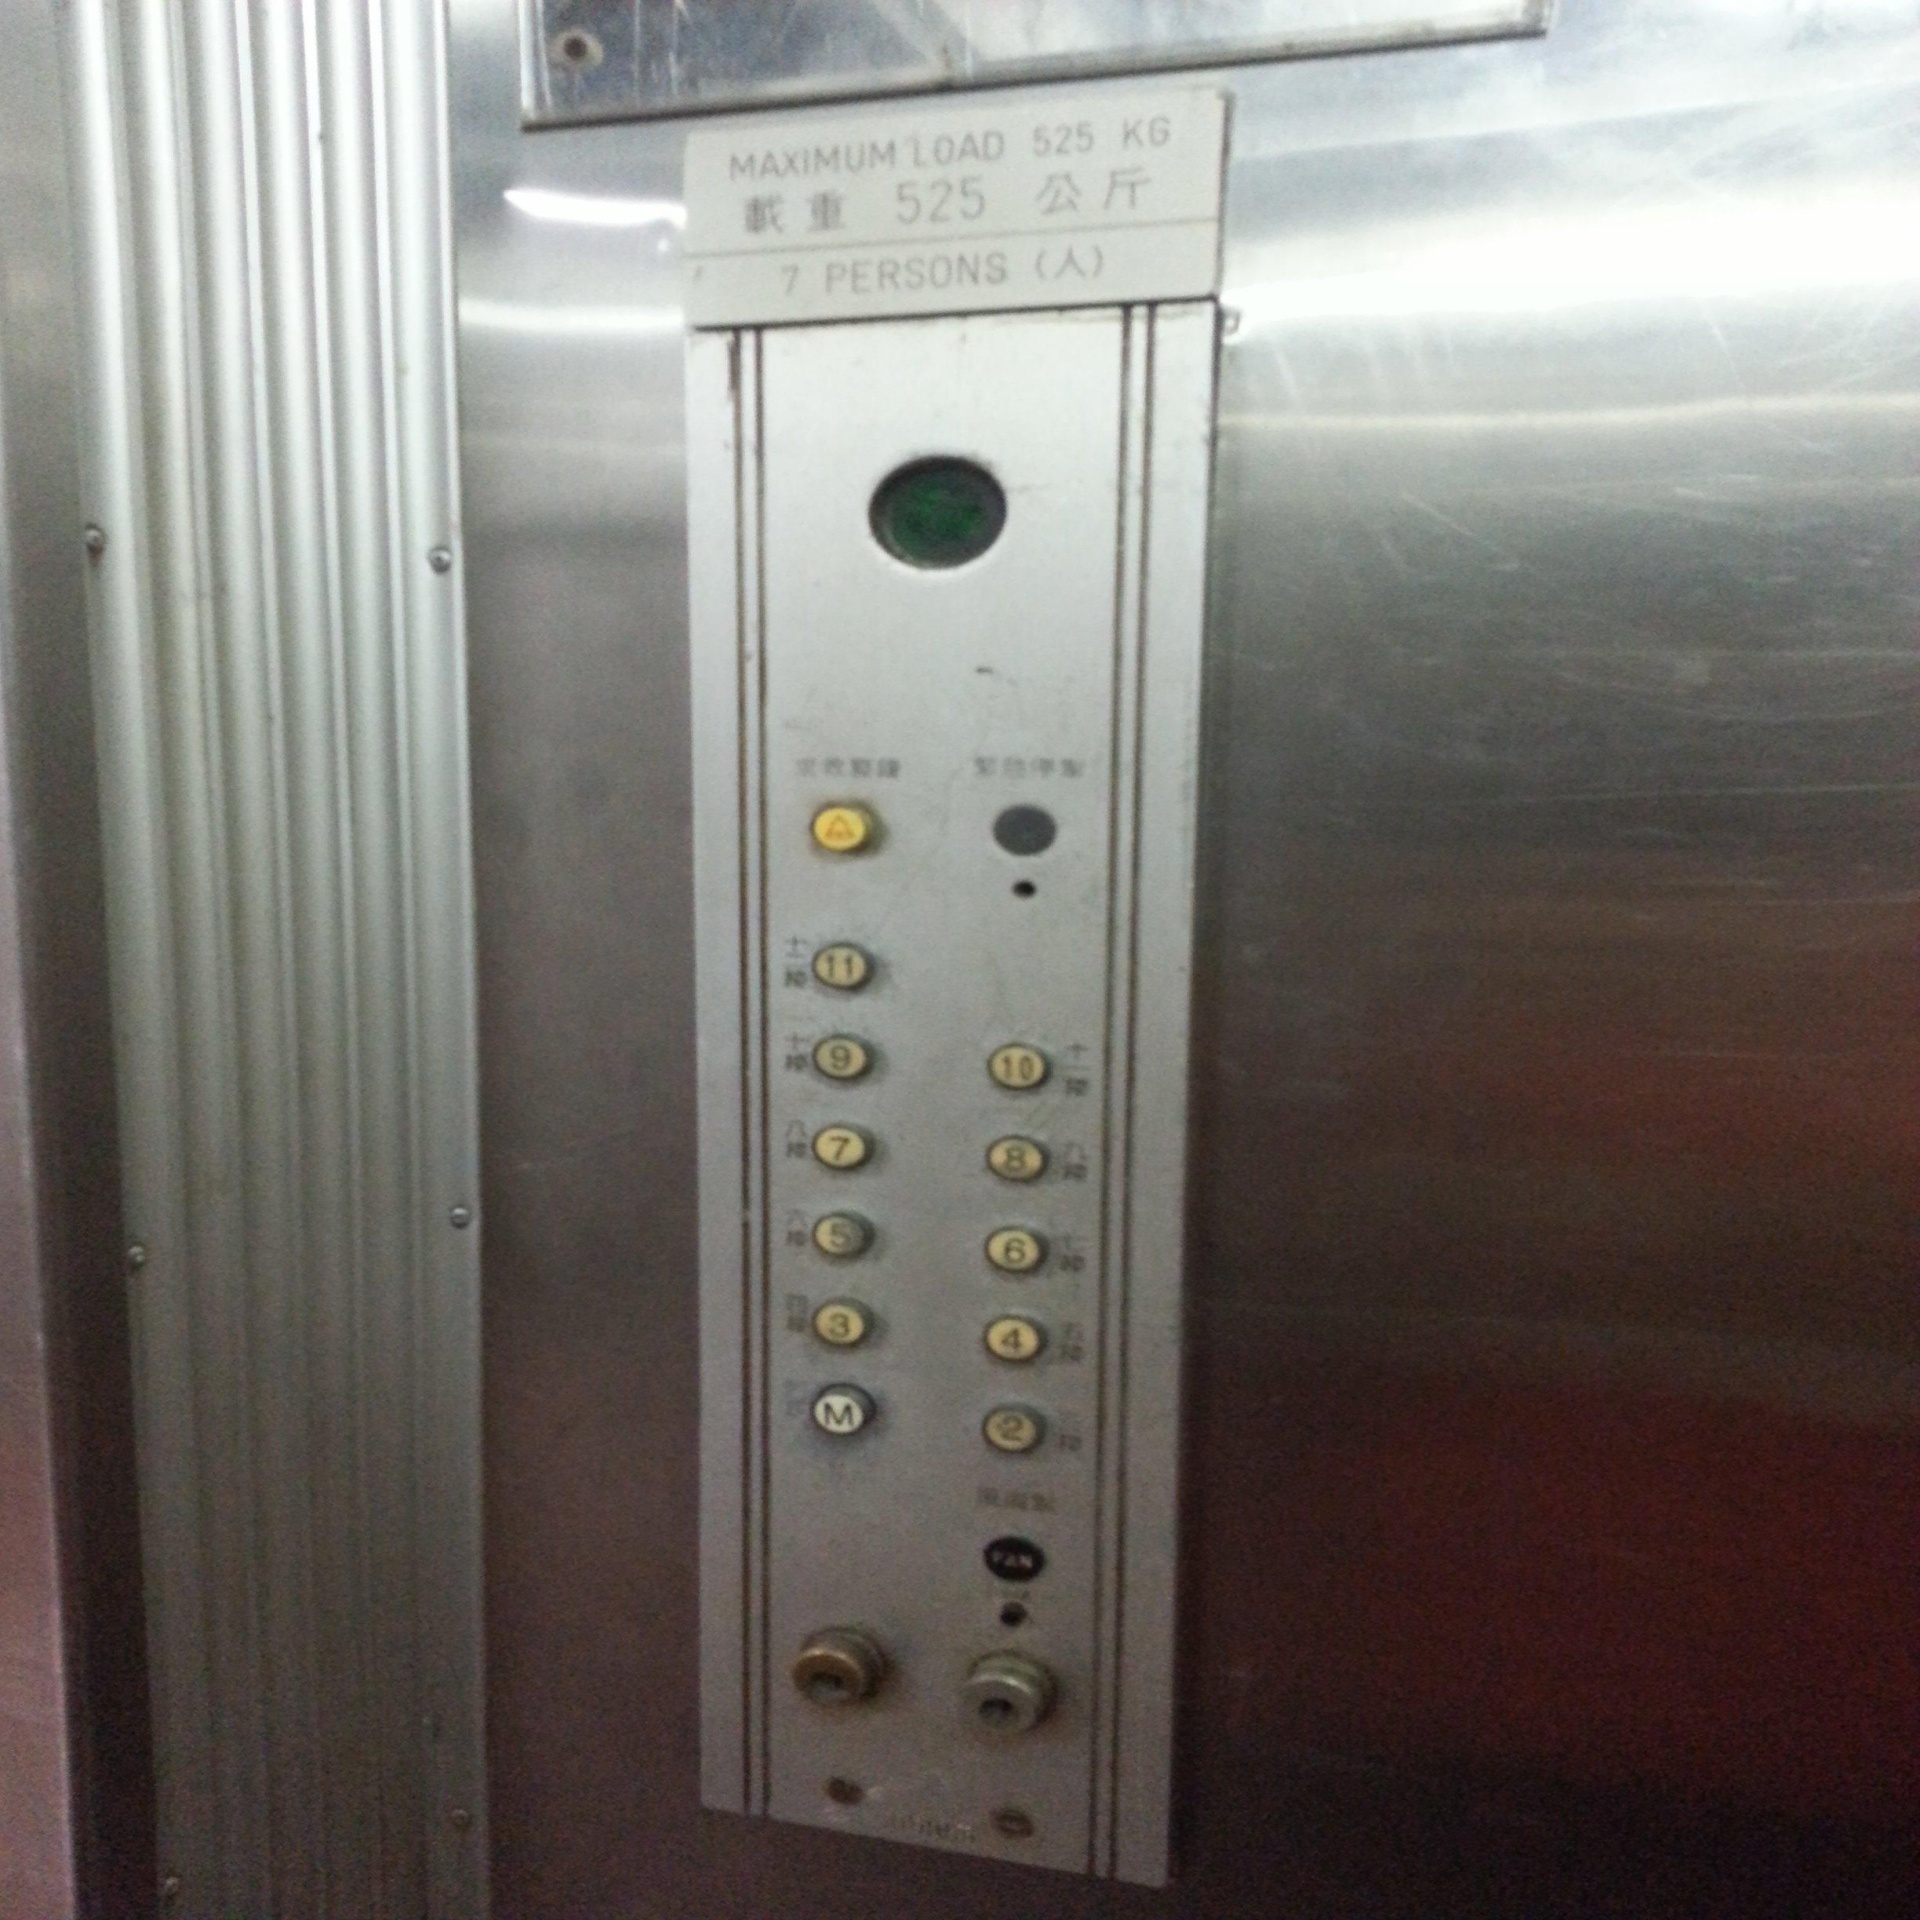10: (986, 1044, 1050, 1090)
11: (811, 939, 872, 992)
2: (979, 1400, 1044, 1458)
3: (811, 1298, 870, 1350)
4: (983, 1312, 1046, 1363)
5: (811, 1210, 870, 1261)
6: (985, 1225, 1048, 1276)
7: (811, 1122, 872, 1173)
8: (985, 1132, 1050, 1185)
9: (811, 1030, 874, 1083)
M: (809, 1384, 877, 1438)
alarm: (807, 802, 879, 856)
blur: (865, 447, 1013, 573)
empty: (988, 802, 1058, 856)
keyhole: (789, 1628, 886, 1713), (964, 1653, 1055, 1737)
text_FAN: (981, 1533, 1046, 1584)
